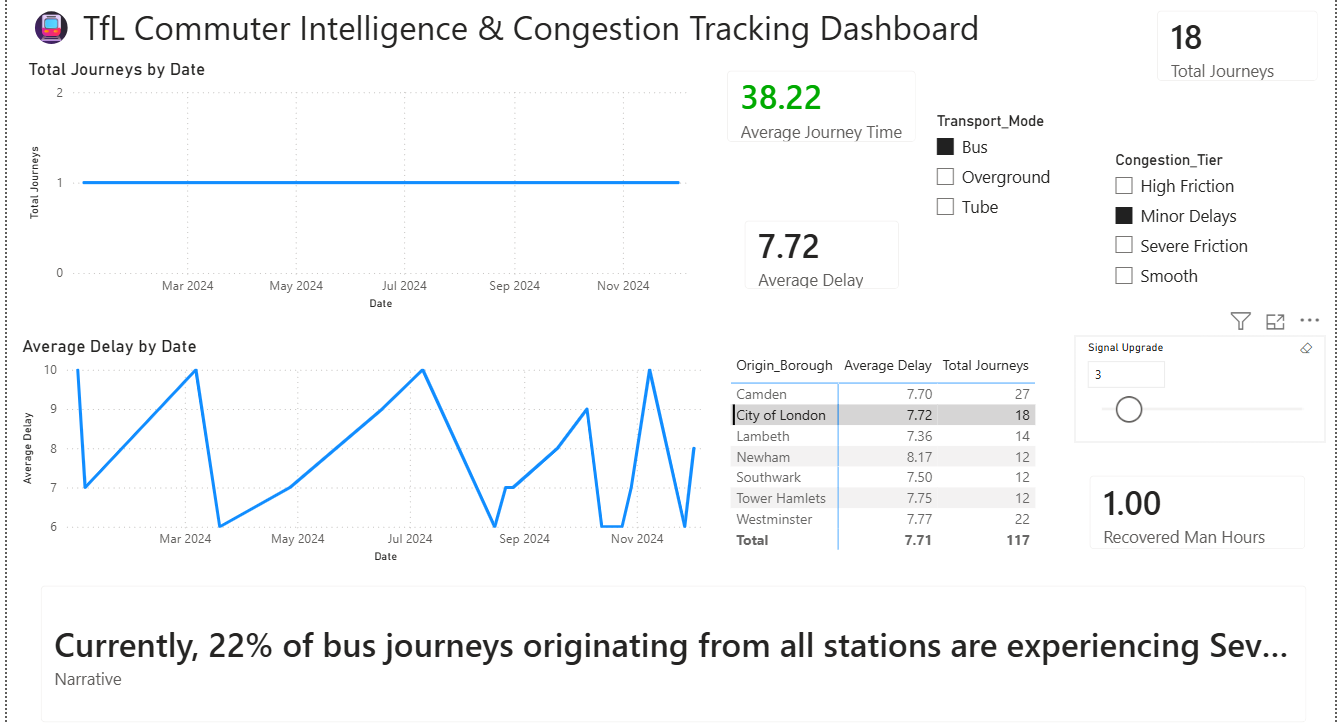

The dashboard page shown, as its layout file describes it:
{"tool":"powerbi","page":{"name":"Page 1","canvas":[1280,720],"ordinal":0},"visuals":[{"type":"cardVisual","fields":{"Data":["tfl_commuter tfl_commuter_trends.Total Journeys"]},"box":[1091.1,0,189.2,102.2],"z":0},{"type":"cardVisual","fields":{"Data":["tfl_commuter tfl_commuter_trends.Average Delay"]},"box":[694.3,203,183.1,100.7],"z":1000},{"type":"cardVisual","fields":{"Data":["tfl_commuter tfl_commuter_trends.Average Journey Time"]},"box":[677.5,58,216.7,103.8],"z":2000},{"type":"lineChart","fields":{"Category":["Calendar.Date"],"Y":["tfl_commuter tfl_commuter_trends.Total Journeys"]},"box":[15.3,62.6,662.3,247.2],"z":3000},{"type":"lineChart","fields":{"Category":["Calendar.Date"],"Y":["tfl_commuter tfl_commuter_trends.Average Delay"]},"box":[9.2,329.6,683.6,224.3],"z":4000},{"type":"slicer","fields":{"Values":["tfl_commuter tfl_commuter_trends.Transport_Mode"]},"box":[883.6,109.9,172.4,129.7],"z":5000},{"type":"slicer","fields":{"Values":["tfl_commuter tfl_commuter_trends.Congestion_Tier"]},"box":[1056,146.5,213.6,157.2],"z":6000},{"type":"pivotTable","fields":{"Rows":["tfl_commuter tfl_commuter_trends.Origin_Borough"],"Values":["tfl_commuter tfl_commuter_trends.Average Delay","tfl_commuter tfl_commuter_trends.Total Journeys"]},"box":[692.8,341.8,334.2,212.1],"z":7000},{"type":"slicer","fields":{"Values":["Signal Upgrade.Signal Upgrade"]},"box":[1028.5,329.6,242.6,103.8],"z":8000},{"type":"cardVisual","fields":{"Data":["tfl_commuter tfl_commuter_trends.Recovered Man Hours"]},"box":[1027,448.6,242.6,105.3],"z":9000},{"type":"cardVisual","fields":{"Data":["tfl_commuter tfl_commuter_trends.Narrative"]},"box":[15.3,553.9,1254.4,166.3],"z":10000},{"type":"textbox","box":[15.3,6.1,947.6,56.5],"z":10001}]}

Visuals, with their boxes on the page's 1280x720 design canvas (x1, y1, x2, y2). These are canvas units, not pixel positions in the 1341x724 screenshot, which may show the page scaled, cropped or inside an application window:
cardVisual - tfl_commuter tfl_commuter_trends.Total Journeys: (x1=1091, y1=0, x2=1280, y2=102)
cardVisual - tfl_commuter tfl_commuter_trends.Average Delay: (x1=694, y1=203, x2=877, y2=304)
cardVisual - tfl_commuter tfl_commuter_trends.Average Journey Time: (x1=678, y1=58, x2=894, y2=162)
lineChart - Calendar.Date x tfl_commuter tfl_commuter_trends.Total Journeys: (x1=15, y1=63, x2=678, y2=310)
lineChart - Calendar.Date x tfl_commuter tfl_commuter_trends.Average Delay: (x1=9, y1=330, x2=693, y2=554)
slicer - tfl_commuter tfl_commuter_trends.Transport_Mode: (x1=884, y1=110, x2=1056, y2=240)
slicer - tfl_commuter tfl_commuter_trends.Congestion_Tier: (x1=1056, y1=146, x2=1270, y2=304)
pivotTable - tfl_commuter tfl_commuter_trends.Origin_Borough x tfl_commuter tfl_commuter_trends.Average Delay: (x1=693, y1=342, x2=1027, y2=554)
slicer - Signal Upgrade.Signal Upgrade: (x1=1028, y1=330, x2=1271, y2=433)
cardVisual - tfl_commuter tfl_commuter_trends.Recovered Man Hours: (x1=1027, y1=449, x2=1270, y2=554)
cardVisual - tfl_commuter tfl_commuter_trends.Narrative: (x1=15, y1=554, x2=1270, y2=720)
textbox: (x1=15, y1=6, x2=963, y2=63)
